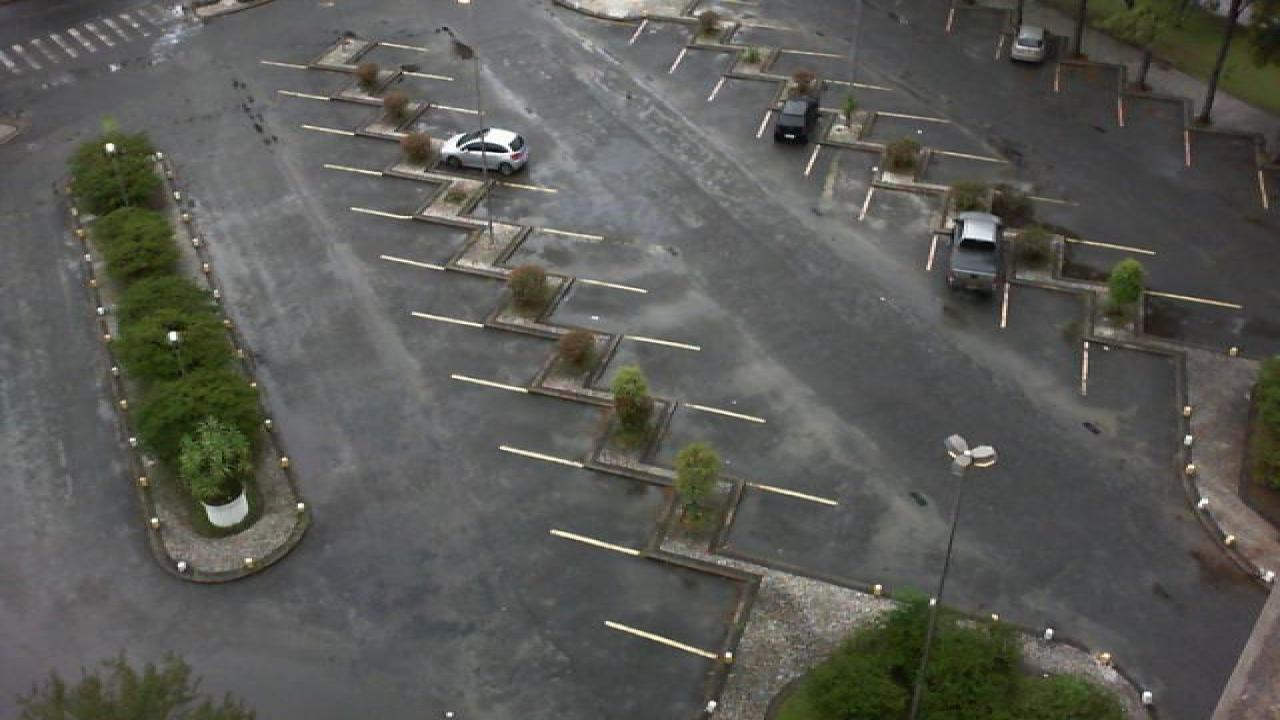Car: (946, 211, 1006, 294), (440, 127, 528, 177), (772, 92, 820, 145), (1006, 26, 1048, 64)
